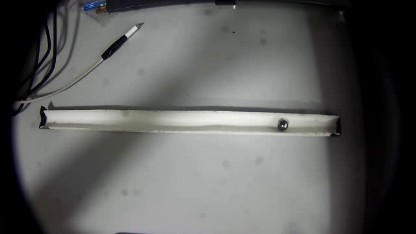gangzhu: (276, 117, 289, 131)
